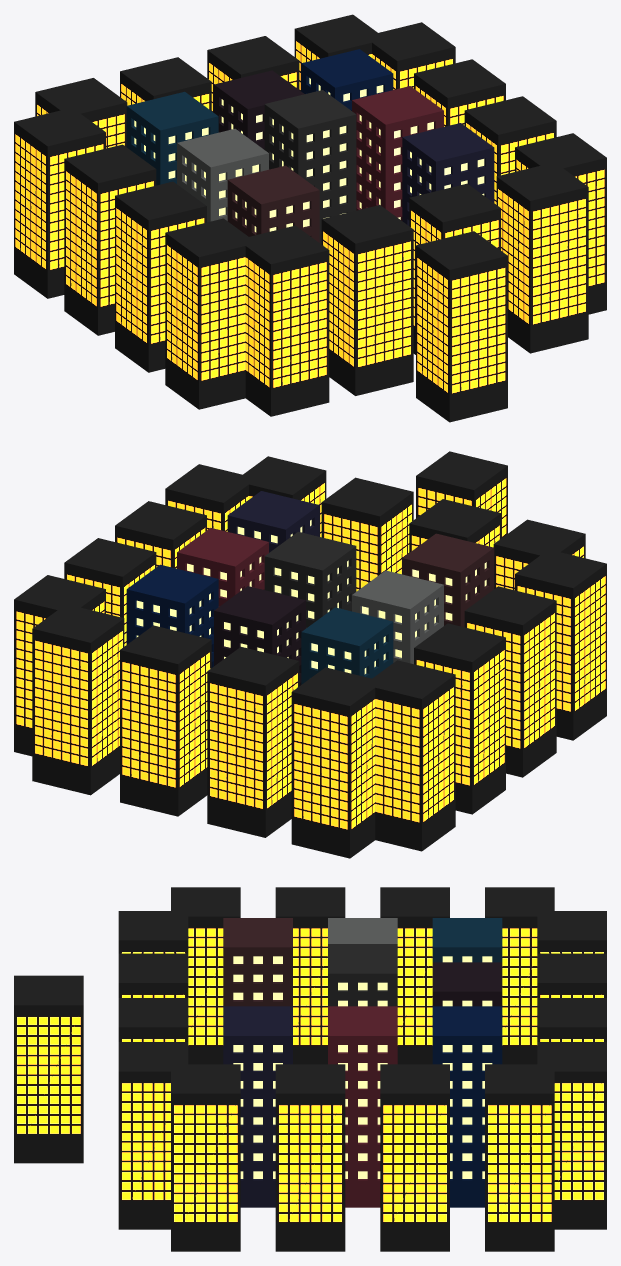
Rendered from env.glb.
3 renders of one model, top to bottom at view 1: azimuth 30°, elevation 25°; view 2: azimuth 150°, elevation 25°; view 3: azimuth 270°, elevation 25°, orthographic. The views are drawn at different scales.
Visible parts, largest first — view 1: Cube.016, Cube.012, Cube.013, Cube.015, Cube.002, Cube, Cube.001, Cube.003, dumb corp office, building 3, building 2, Cube.010 (+13 smaller); view 2: Cube.007, Cube.006, Cube.004, Cube.005, Cube.003, Cube.001, Cube, Cube.002, Cube.014, dumb corp office, building 4, building 5 (+13 smaller); view 3: Cube.009, Cube.016, Cube.008, Cube.010, Cube.011, Cube.007, Cube.015, building 2, building 3, building 4, Cube, Cube.002 (+13 smaller).
Boxes of the visible parts, box(x1,y1,x2,y2) form: Cube.016: box(416, 231, 507, 422); Cube.012: box(321, 205, 413, 395); Cube.013: box(238, 225, 329, 416); Cube.015: box(496, 166, 588, 353); Cube.002: box(165, 218, 255, 409); Cube: box(64, 144, 156, 335); Cube.001: box(115, 181, 206, 372); Cube.003: box(14, 107, 105, 298); dumb corp office: box(264, 90, 356, 244); building 3: box(352, 86, 443, 220); building 2: box(402, 123, 494, 225); Cube.010: box(515, 133, 606, 314); Cube.007: box(32, 604, 124, 795); Cube.006: box(120, 625, 211, 816); Cube.004: box(207, 647, 299, 837); Cube.005: box(291, 667, 380, 858); Cube.003: box(364, 660, 455, 851); Cube.001: box(464, 586, 556, 777); Cube: box(414, 623, 505, 814); Cube.002: box(515, 549, 606, 740); Cube.014: box(321, 477, 413, 591); dumb corp office: box(264, 531, 356, 628); building 4: box(126, 564, 218, 667); building 5: box(214, 586, 305, 685); Cube.009: box(275, 1064, 345, 1251); Cube.016: box(14, 975, 83, 1163); Cube.008: box(380, 1064, 449, 1251); Cube.010: box(171, 1064, 240, 1251); Cube.011: box(485, 1064, 554, 1251); Cube.007: box(537, 1042, 606, 1229); Cube.015: box(118, 1042, 188, 1229); building 2: box(223, 1006, 292, 1207); building 3: box(328, 1006, 397, 1207); building 4: box(432, 1006, 502, 1207); Cube: box(380, 887, 449, 1064); Cube.002: box(171, 887, 240, 1064).
Size of what is drawn, in the model's own units: 140 by 60.38 by 170.
Materials: 16 (15 with a texture image).
